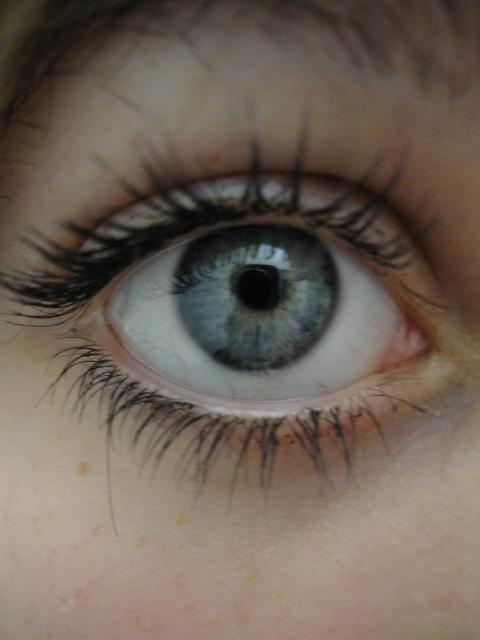eye: (171, 213, 349, 377)
